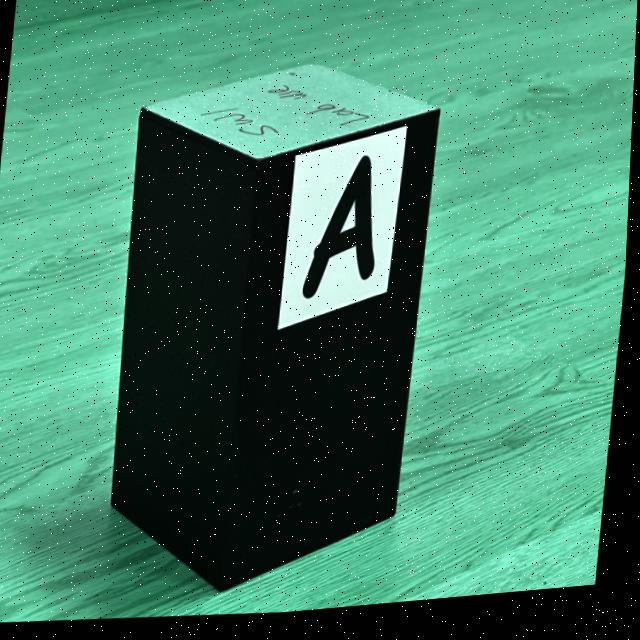A: (305, 163, 377, 304)
